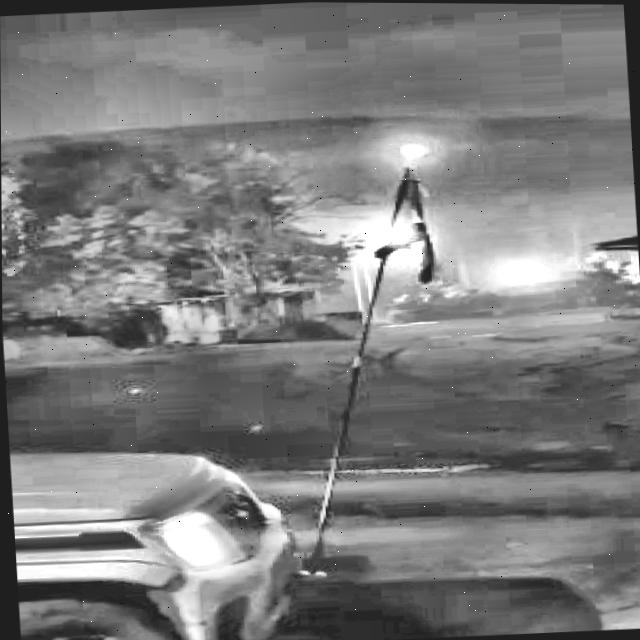light_vehicle: (2, 323, 271, 640)
